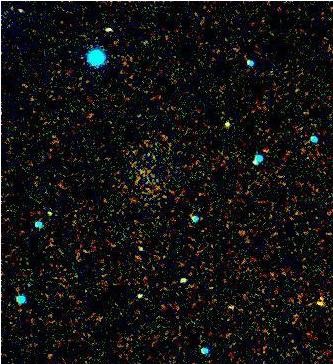star: (306, 287, 333, 317)
